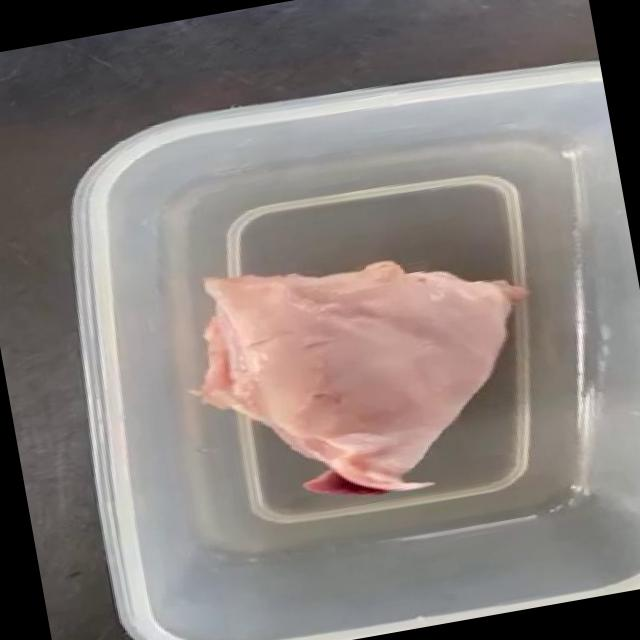chicken: (190, 227, 566, 522)
